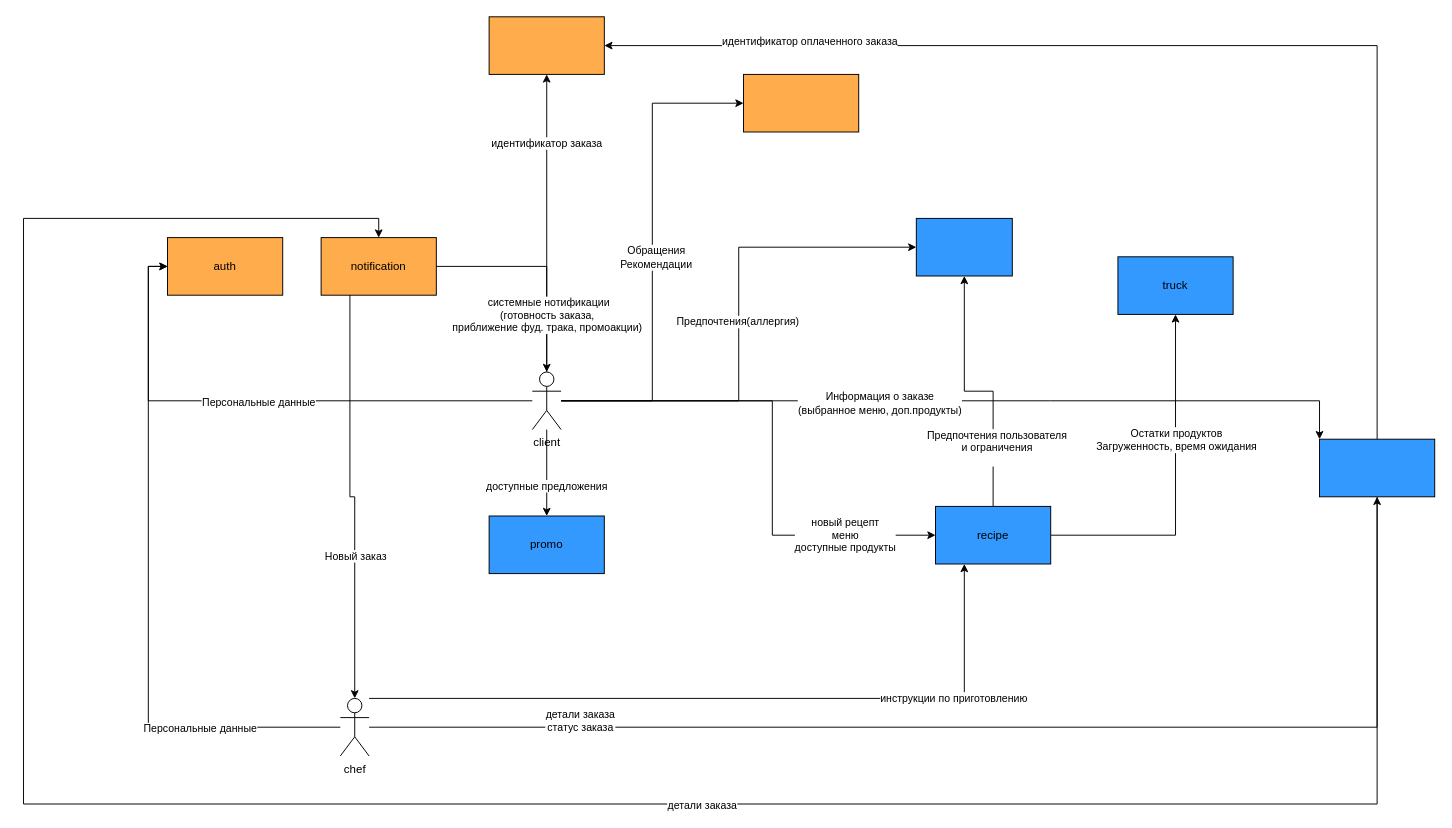
Image size: 1452x828. Some labels were removed from this diagram. Each missing label, with the centre of its shape:
orders: point (1377, 467)
payment: point (546, 45)
settings: point (963, 246)
support: point (801, 102)
